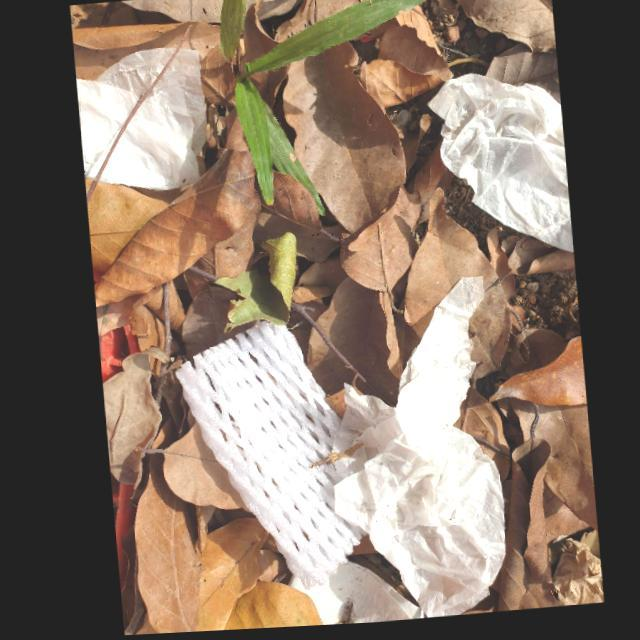biowaste: (233, 0, 435, 219), (91, 111, 253, 307), (281, 44, 404, 237), (401, 192, 507, 383), (490, 410, 561, 616), (71, 23, 235, 108), (303, 281, 398, 421), (507, 402, 592, 539), (131, 424, 246, 514), (337, 189, 417, 317), (128, 480, 194, 635), (359, 9, 452, 119), (98, 346, 170, 486), (84, 183, 193, 273), (210, 234, 293, 334), (189, 520, 262, 633), (484, 342, 582, 411), (448, 374, 503, 489), (454, 0, 554, 60), (273, 0, 382, 45), (216, 583, 316, 632), (501, 315, 564, 382), (492, 240, 572, 291), (219, 0, 246, 65)
paper: (326, 281, 499, 622), (425, 78, 571, 260), (75, 49, 205, 192), (283, 565, 413, 628)
